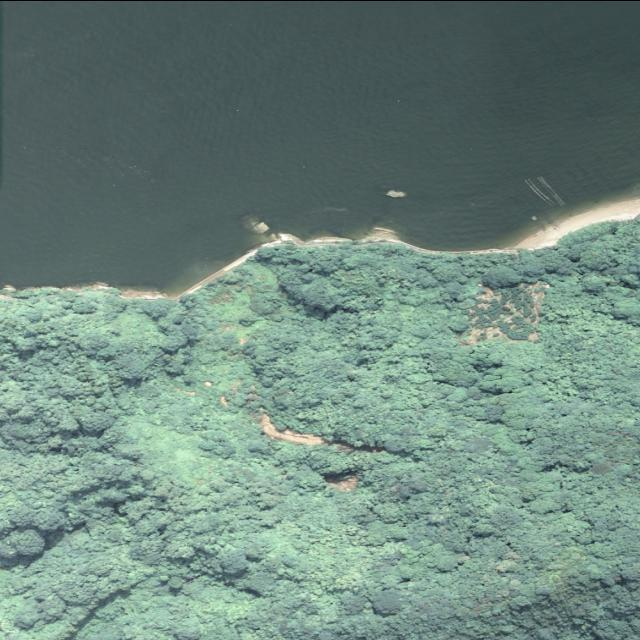landslide: (257, 412, 329, 445)
